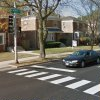crosswalk: (7, 68, 100, 95)
